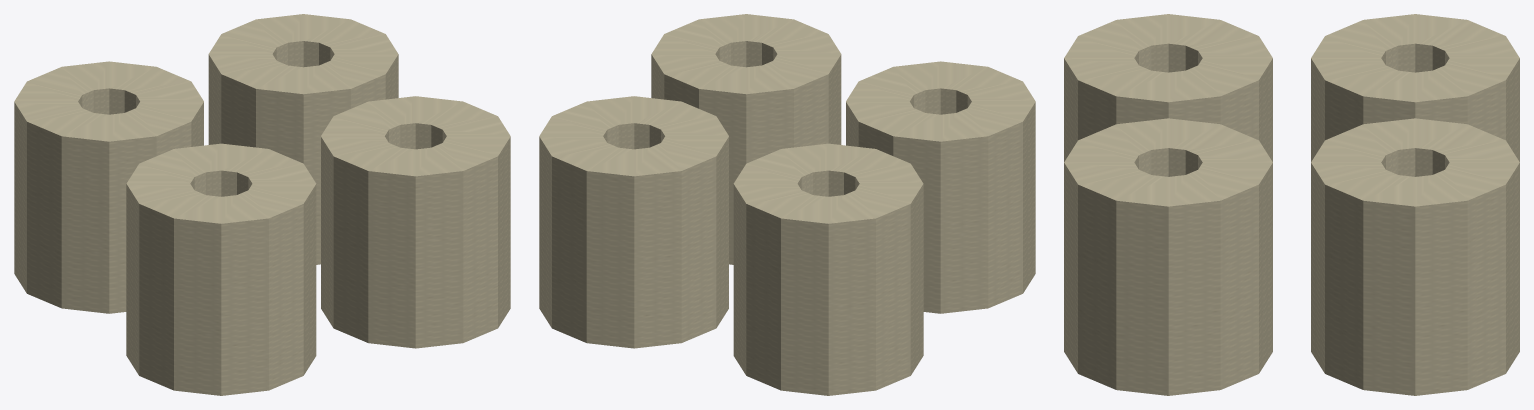
Rendered from MD_106_ToiletPaperPack.fbx.
3 views of the same model, side by side, from view 1: azimuth 30°, elevation 25°; view 2: azimuth 150°, elevation 25°; view 3: azimuth 270°, elevation 25° (orthographic). The views are drawn at different scales.
Parts seen in each view (by area): view 1: MD_106_ToiletPaperPack_toilet_roll, MD_106_ToiletPaperPack_toilet_roll.002, MD_106_ToiletPaperPack_toilet_roll.001, MD_106_ToiletPaperPack_toilet_roll.003; view 2: MD_106_ToiletPaperPack_toilet_roll.001, MD_106_ToiletPaperPack_toilet_roll.003, MD_106_ToiletPaperPack_toilet_roll, MD_106_ToiletPaperPack_toilet_roll.002; view 3: MD_106_ToiletPaperPack_toilet_roll.002, MD_106_ToiletPaperPack_toilet_roll.003, MD_106_ToiletPaperPack_toilet_roll, MD_106_ToiletPaperPack_toilet_roll.001.
Part boxes in pixels (<box>): MD_106_ToiletPaperPack_toilet_roll: <box>126,143,316,395</box>; MD_106_ToiletPaperPack_toilet_roll.002: <box>321,96,510,348</box>; MD_106_ToiletPaperPack_toilet_roll.001: <box>14,61,203,313</box>; MD_106_ToiletPaperPack_toilet_roll.003: <box>208,14,398,264</box>; MD_106_ToiletPaperPack_toilet_roll.001: <box>733,143,923,395</box>; MD_106_ToiletPaperPack_toilet_roll.003: <box>539,96,728,348</box>; MD_106_ToiletPaperPack_toilet_roll: <box>846,61,1035,313</box>; MD_106_ToiletPaperPack_toilet_roll.002: <box>651,14,841,264</box>; MD_106_ToiletPaperPack_toilet_roll.002: <box>1064,118,1272,395</box>; MD_106_ToiletPaperPack_toilet_roll.003: <box>1311,118,1519,395</box>; MD_106_ToiletPaperPack_toilet_roll: <box>1064,14,1272,161</box>; MD_106_ToiletPaperPack_toilet_roll.001: <box>1311,14,1519,161</box>.
Bounding box in the file's own units: 0.24 × 0.11 × 0.24.
1 material, 1 textured.
